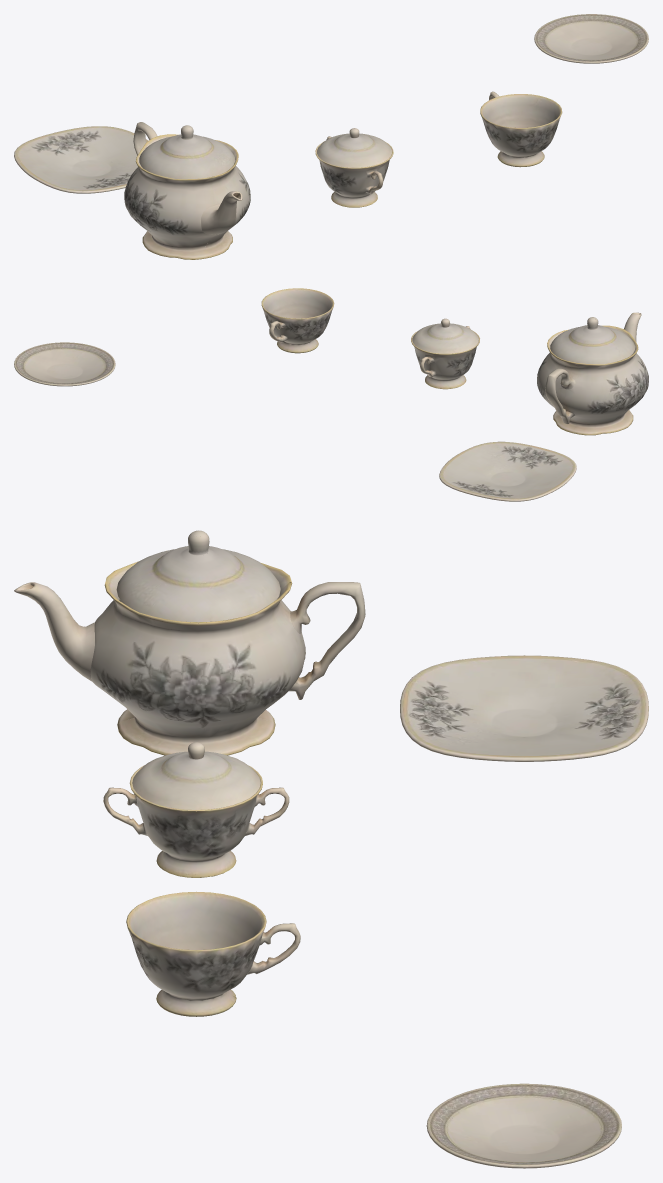
Rendered from tea_set_01.glb.
3 renders of one model, top to bottom at view 1: azimuth 30°, elevation 25°; view 2: azimuth 150°, elevation 25°; view 3: azimuth 270°, elevation 25°, orthographic. The views are drawn at different scales.
Visible parts, largest first — view 1: tea_set_01_teapot_01, tea_set_01_plate_large_square_01, tea_set_01_cup_small_01, tea_set_01_saucer_circular_03, tea_set_01_teapot_01_lid, tea_set_01_sugar_cup_01, tea_set_01_sugar_cup_01_lid; view 2: tea_set_01_teapot_01, tea_set_01_plate_large_square_01, tea_set_01_cup_small_01, tea_set_01_saucer_circular_03, tea_set_01_teapot_01_lid, tea_set_01_sugar_cup_01, tea_set_01_sugar_cup_01_lid; view 3: tea_set_01_teapot_01, tea_set_01_plate_large_square_01, tea_set_01_cup_small_01, tea_set_01_saucer_circular_03, tea_set_01_teapot_01_lid, tea_set_01_sugar_cup_01, tea_set_01_sugar_cup_01_lid.
Boxes of the visible parts, left/top/right/bottom form: tea_set_01_teapot_01: left=124, top=122, right=250, bottom=259; tea_set_01_plate_large_square_01: left=14, top=126, right=148, bottom=193; tea_set_01_cup_small_01: left=480, top=91, right=562, bottom=167; tea_set_01_saucer_circular_03: left=534, top=14, right=648, bottom=63; tea_set_01_teapot_01_lid: left=139, top=125, right=235, bottom=179; tea_set_01_sugar_cup_01: left=315, top=136, right=393, bottom=207; tea_set_01_sugar_cup_01_lid: left=317, top=128, right=391, bottom=167; tea_set_01_teapot_01: left=537, top=312, right=648, bottom=435; tea_set_01_plate_large_square_01: left=439, top=441, right=576, bottom=501; tea_set_01_cup_small_01: left=261, top=288, right=334, bottom=353; tea_set_01_saucer_circular_03: left=14, top=342, right=115, bottom=386; tea_set_01_teapot_01_lid: left=550, top=317, right=635, bottom=364; tea_set_01_sugar_cup_01: left=411, top=326, right=479, bottom=389; tea_set_01_sugar_cup_01_lid: left=412, top=318, right=478, bottom=353; tea_set_01_teapot_01: left=14, top=550, right=365, bottom=755; tea_set_01_plate_large_square_01: left=400, top=655, right=648, bottom=761; tea_set_01_cup_small_01: left=126, top=891, right=300, bottom=1016; tea_set_01_saucer_circular_03: left=426, top=1083, right=621, bottom=1168; tea_set_01_teapot_01_lid: left=116, top=530, right=280, bottom=622; tea_set_01_sugar_cup_01: left=103, top=765, right=289, bottom=877; tea_set_01_sugar_cup_01_lid: left=132, top=742, right=260, bottom=809.
Bounding box in the file's own units: 0.9185 × 0.165 × 0.4841.
Materials: 1 (1 with a texture image).
